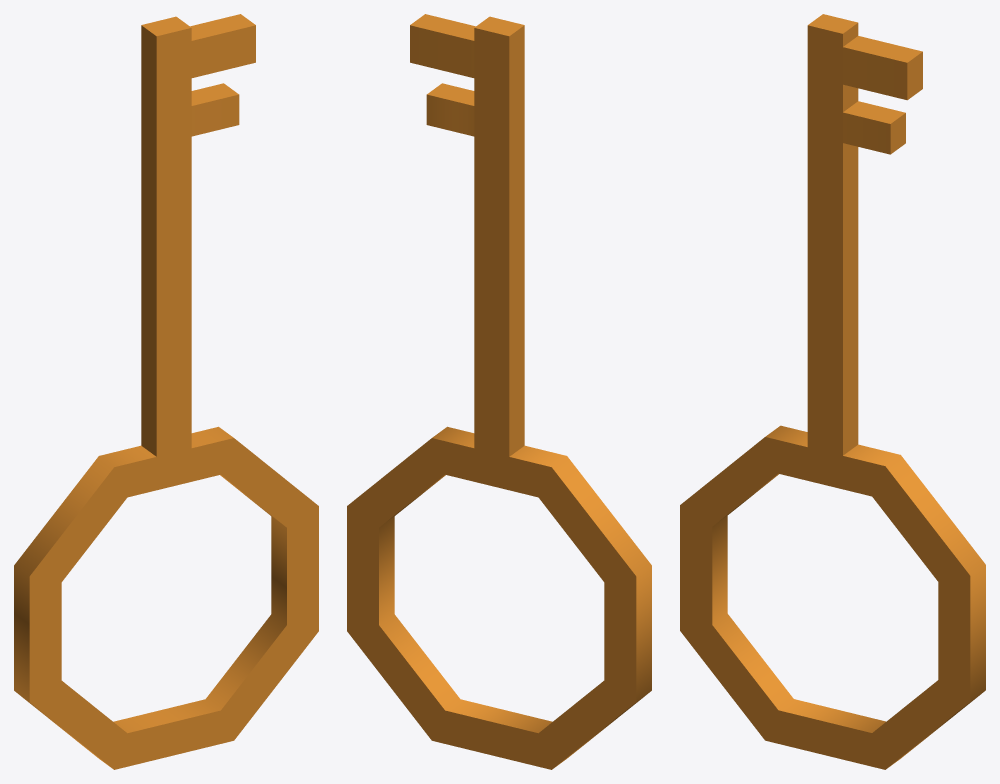
File: Llave.fbx
The picture shows the model from 3 angles, left to right: view 1: azimuth 30°, elevation 25°; view 2: azimuth 150°, elevation 25°; view 3: azimuth 330°, elevation 25°; orthographic projection.
Parts seen in each view (by area): view 1: Cylinder; view 2: Cylinder; view 3: Cylinder.
Part boxes in pixels (x1,y1,x2,y2): Cylinder: [14, 14, 318, 769]; Cylinder: [347, 14, 651, 769]; Cylinder: [680, 14, 985, 769].
Size of the model in its own units: 5.43 by 12.97 by 0.5.
